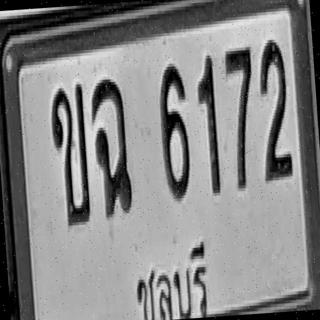A02: (48, 81, 92, 226)
A09: (88, 76, 134, 218)
N01: (195, 54, 221, 195)
N02: (256, 38, 292, 180)
N06: (157, 63, 192, 199)
N07: (223, 45, 260, 190)
P13: (124, 222, 230, 320)
